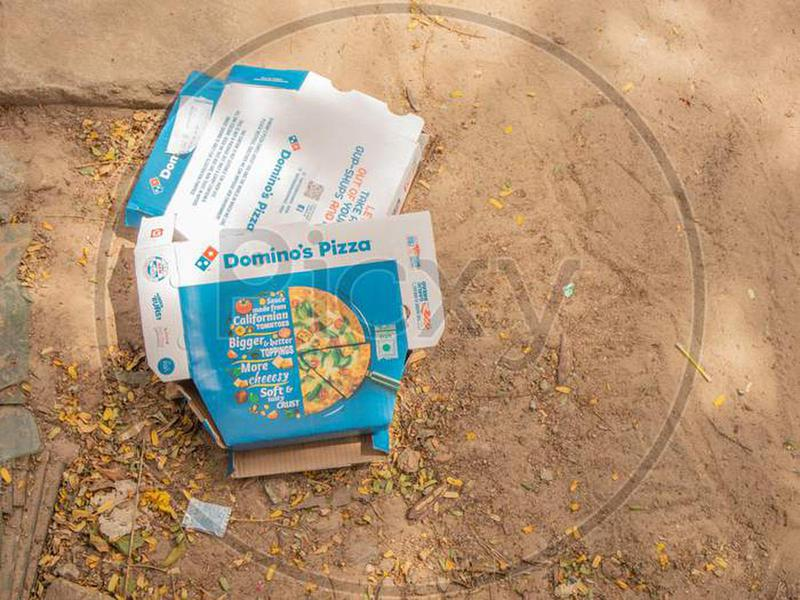cardboard: (130, 211, 447, 482), (116, 68, 433, 232)
plastic: (178, 498, 236, 540)
